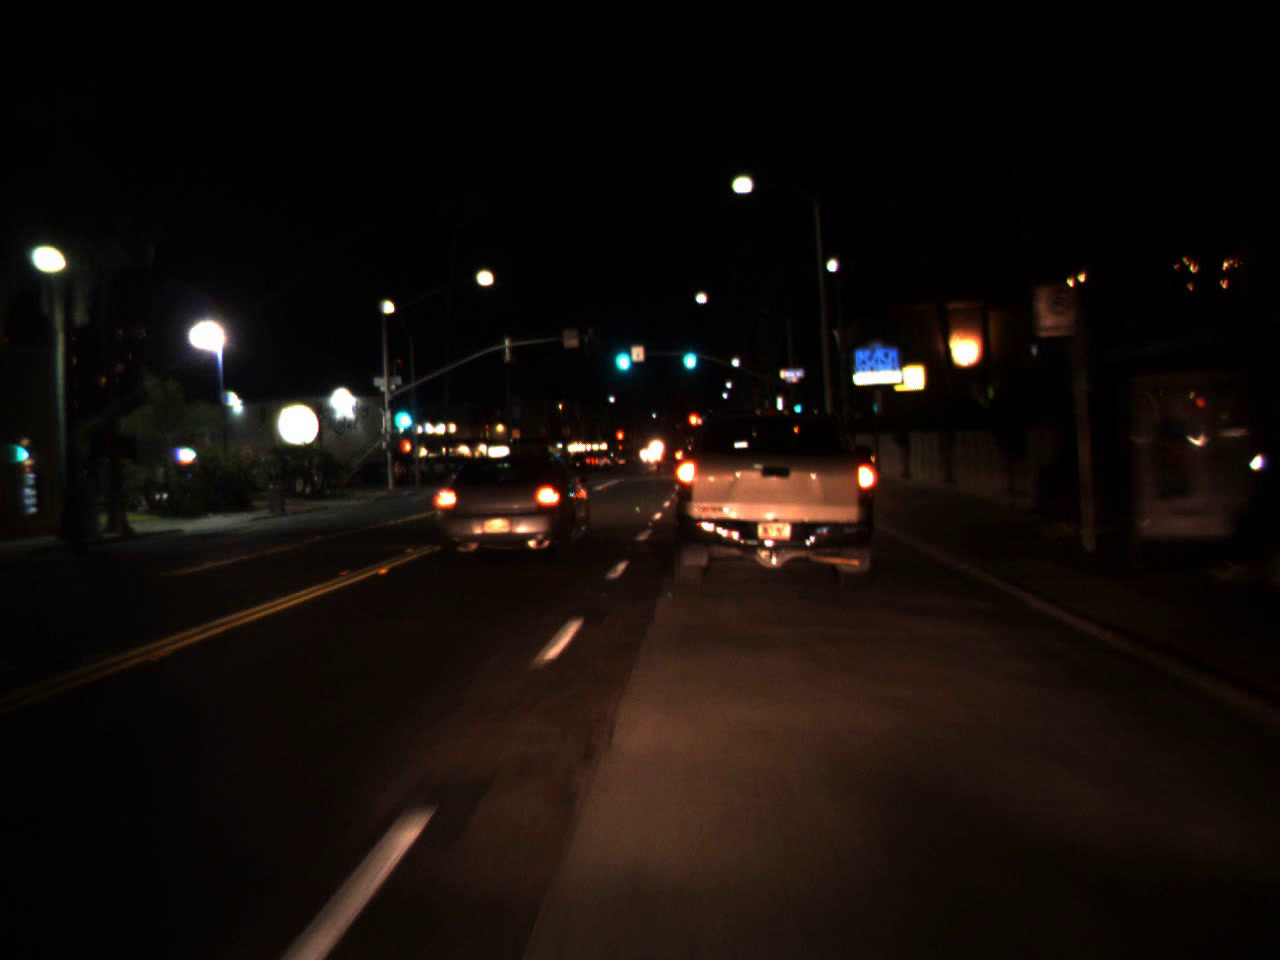go: (609, 330, 634, 378), (389, 392, 414, 434), (678, 333, 699, 375), (791, 397, 801, 415)
